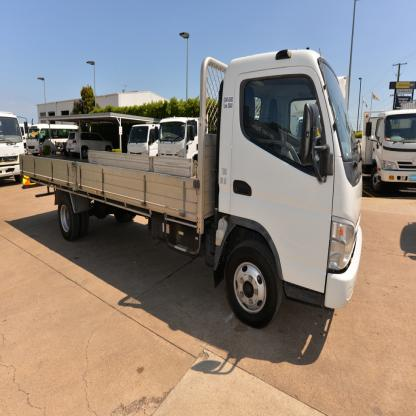truck: (19, 47, 364, 330)
